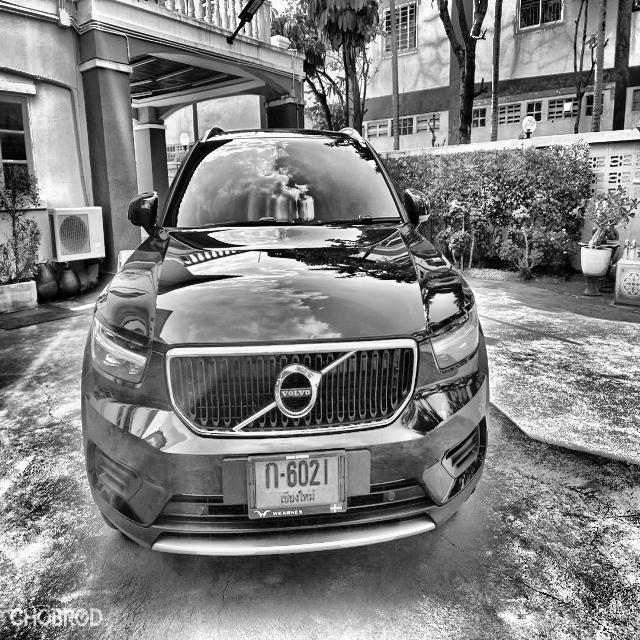license-plate: (250, 450, 348, 520)
